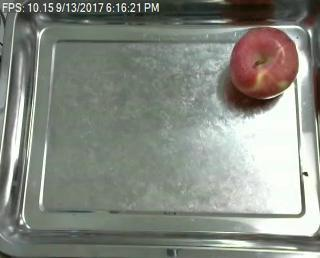apple: (229, 25, 299, 99)
